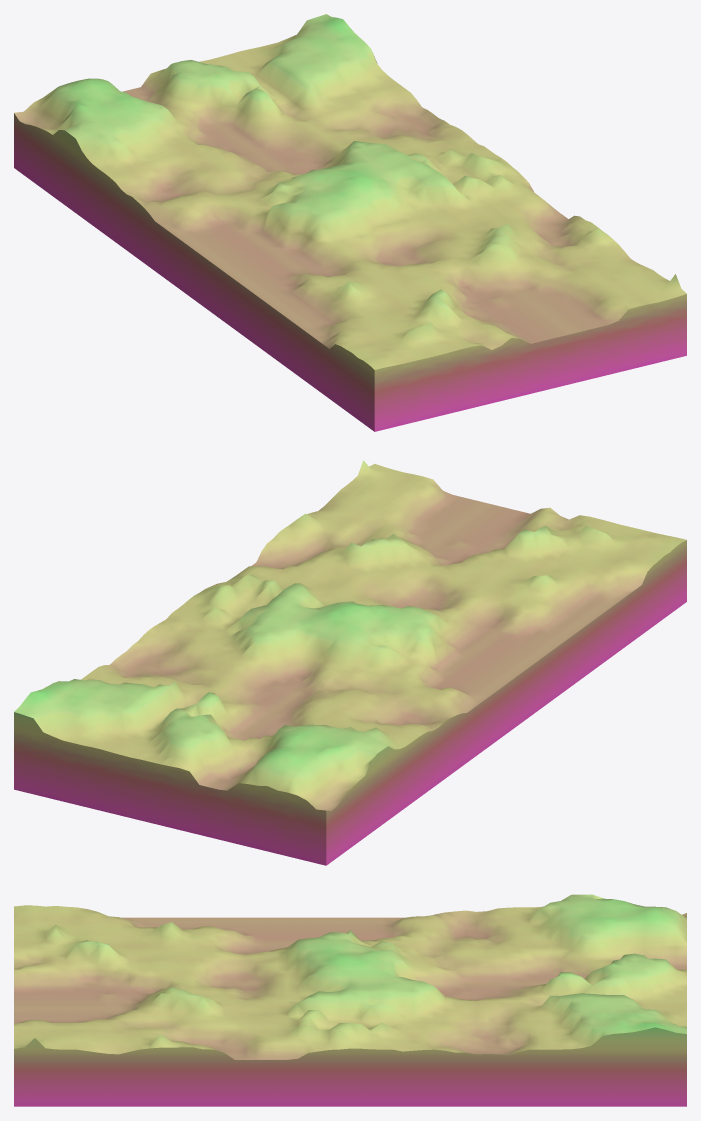
File: terrainmesh.FBX
The picture shows the model from 3 angles, top to bottom: view 1: azimuth 30°, elevation 25°; view 2: azimuth 150°, elevation 25°; view 3: azimuth 270°, elevation 25°; orthographic projection. The views are drawn at different scales.
Parts seen in each view (by area): view 1: terreng001; view 2: terreng001; view 3: terreng001.
Boxes of the visible parts, x1,y1,x2,y2 form: terreng001: (14,14,686,431); terreng001: (14,460,686,865); terreng001: (14,894,686,1106).
Size of the model in its own units: 10 by 2.6 by 20.
1 material, 1 textured.
